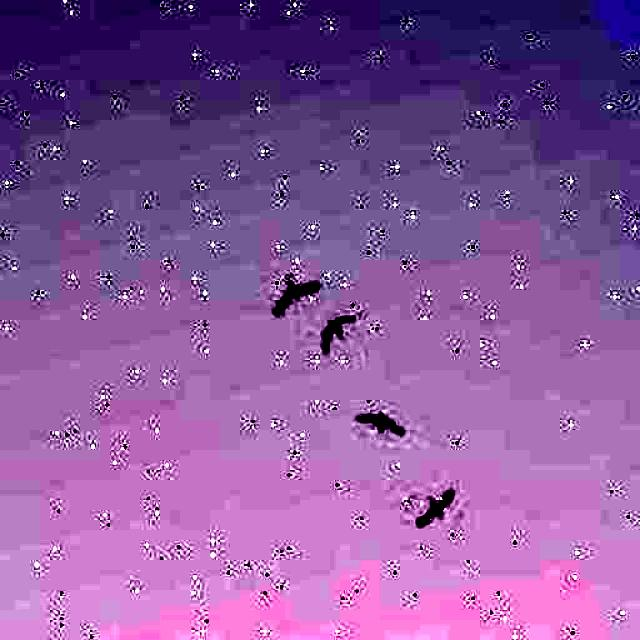airplane: (264, 265, 324, 318), (315, 310, 362, 356), (356, 404, 406, 444), (410, 488, 460, 528)
